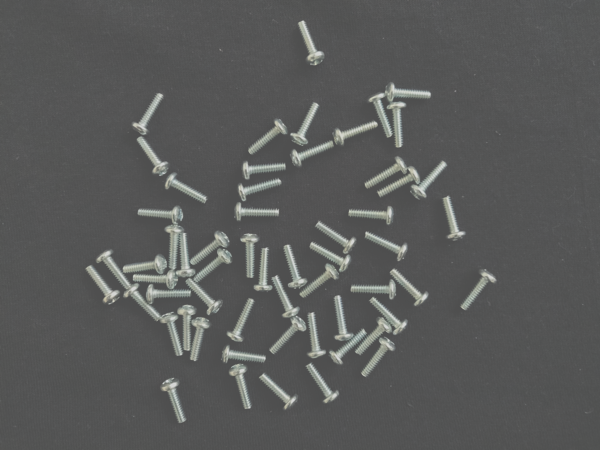shortscrew: (461, 269, 498, 313), (390, 269, 431, 308), (370, 297, 409, 337), (165, 172, 209, 207), (411, 160, 448, 201), (259, 374, 300, 411), (361, 337, 397, 379), (269, 317, 307, 356), (248, 118, 288, 155), (304, 363, 340, 404), (131, 93, 164, 137), (356, 318, 394, 356), (124, 284, 162, 322), (186, 277, 223, 316), (328, 330, 368, 366), (299, 264, 339, 300), (85, 265, 120, 306), (308, 243, 352, 275), (317, 221, 358, 255), (190, 231, 231, 265), (297, 20, 326, 68), (137, 136, 170, 178), (378, 166, 421, 198), (365, 232, 409, 263), (271, 275, 302, 319), (364, 158, 407, 189), (290, 102, 320, 146), (226, 298, 255, 343), (195, 248, 233, 282), (367, 92, 395, 138), (290, 140, 336, 168), (97, 249, 130, 288), (160, 378, 187, 424), (332, 120, 379, 146), (283, 243, 309, 290), (189, 317, 214, 363), (159, 312, 184, 357), (443, 196, 467, 242), (228, 365, 253, 409), (238, 178, 283, 202), (146, 283, 192, 305), (334, 295, 355, 342), (385, 82, 431, 103), (349, 204, 395, 225), (351, 280, 397, 301), (253, 249, 274, 295), (307, 311, 327, 359), (177, 304, 197, 352), (221, 345, 266, 366), (233, 204, 280, 224), (138, 206, 185, 226), (123, 254, 169, 274), (387, 100, 406, 148), (177, 233, 196, 280), (165, 225, 184, 271), (133, 271, 179, 290), (241, 234, 260, 279), (241, 162, 287, 180)
